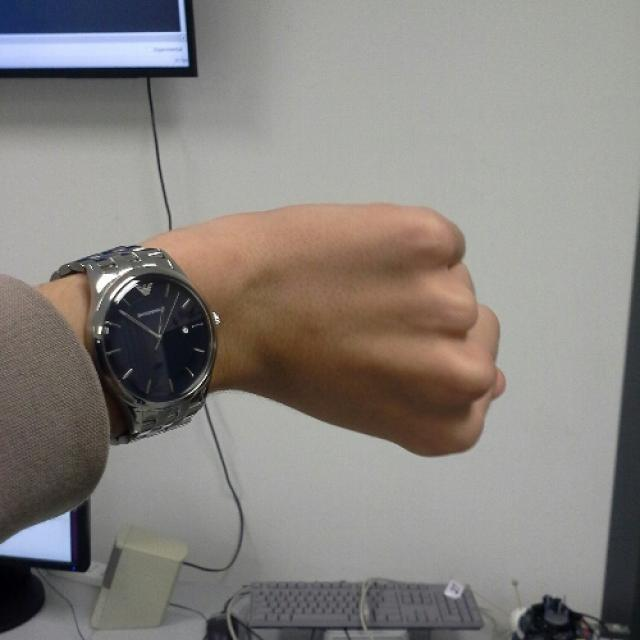rock: (247, 202, 508, 459)
